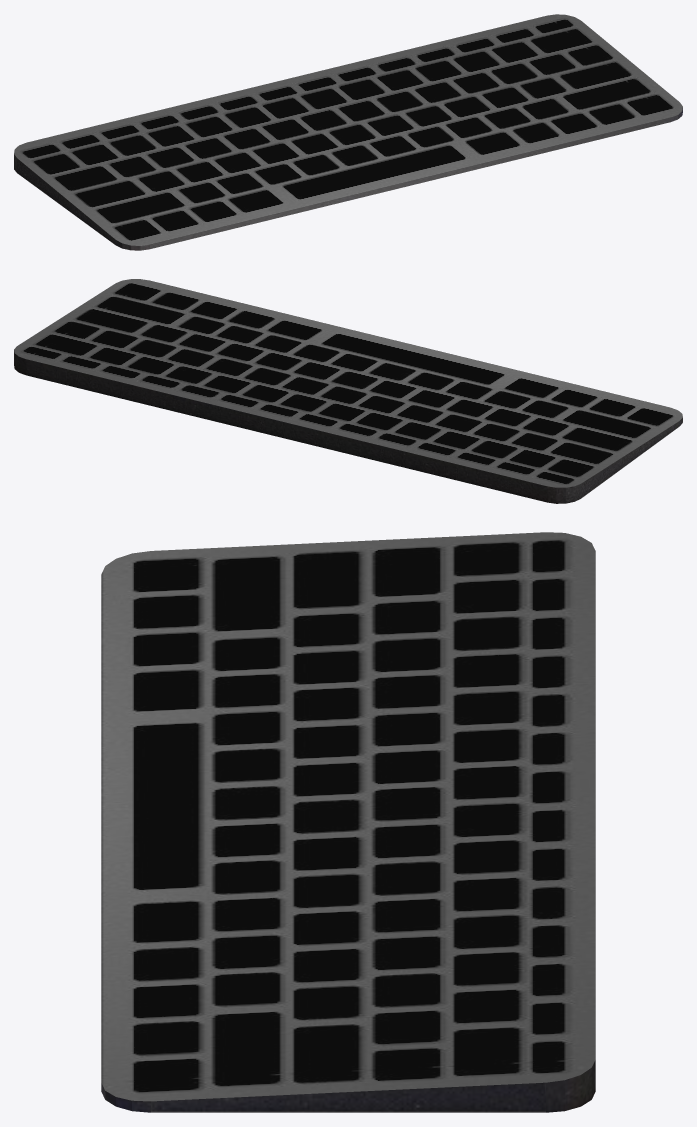
The model's file is keyboard.glb.
The picture shows the model from 3 angles, top to bottom: view 1: azimuth 30°, elevation 25°; view 2: azimuth 150°, elevation 25°; view 3: azimuth 270°, elevation 25°; orthographic projection. The views are drawn at different scales.
Visible parts, largest first — view 1: keyboard; view 2: keyboard; view 3: keyboard.
Part boxes in pixels (x1,y1,x2,y2): keyboard: (14,14,682,250); keyboard: (14,279,682,503); keyboard: (101,532,595,1112).
Bounding box in the file's own units: 3.22 × 0.0884 × 1.22.
Materials: 1 (1 with a texture image).
